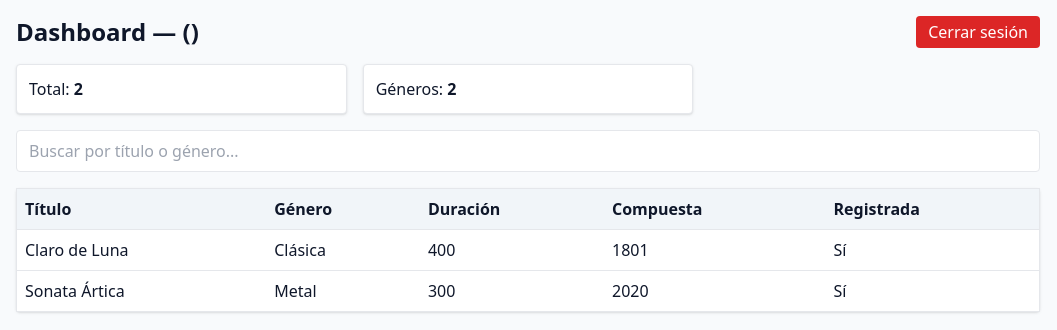
Scenario: DashboardPage › filtra la tabla según la búsqueda
Note: Escribimos en el buscador
Type "Ártica" into the field with placeholder "Buscar por título o género..." at (528, 151), box left=16, top=130, right=1040, bottom=172
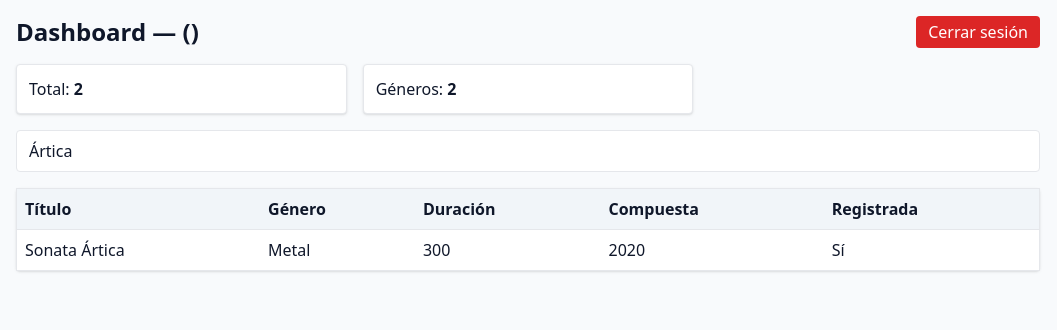
Expected: the text "Sonata Ártica" is shown, left=25, top=239, right=125, bottom=261
Now the text "Claro de Luna" is gone
